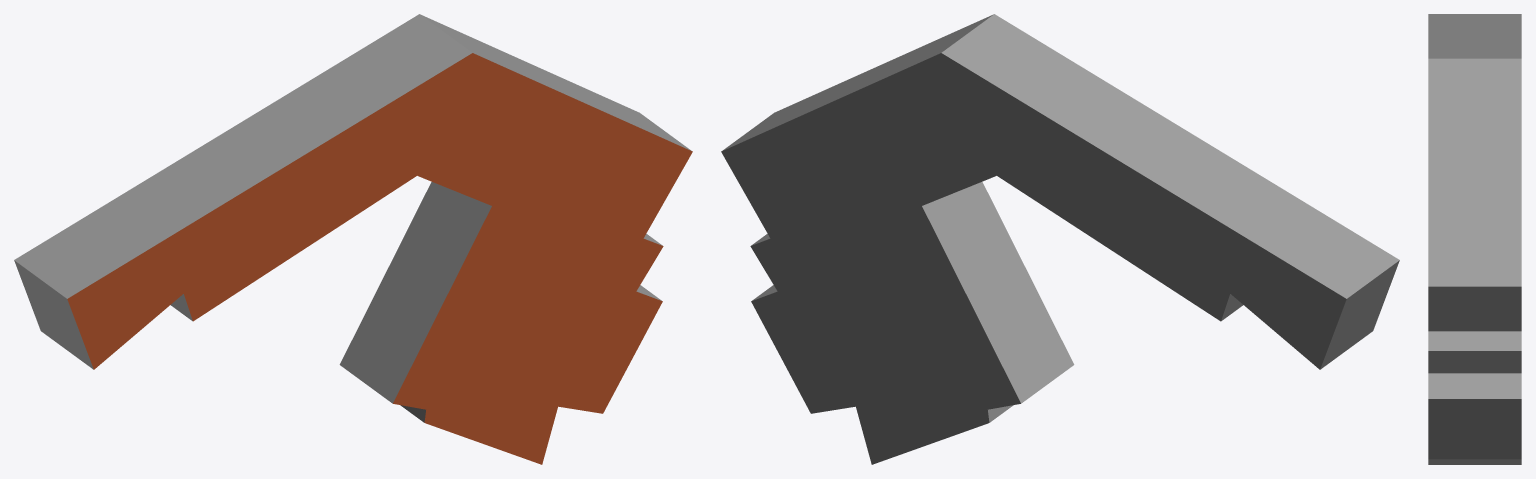
File: construction_1942_assumed_A_Casa_h6m.obj
3 renders of one model, left to right at view 1: azimuth 30°, elevation 25°; view 2: azimuth 150°, elevation 25°; view 3: azimuth 270°, elevation 25°, orthographic. The views are drawn at different scales.
Parts seen in each view (by area): view 1: construction_1942_assumed_A_Casa; view 2: construction_1942_assumed_A_Casa; view 3: construction_1942_assumed_A_Casa.
Part boxes in pixels (left/top/right/bottom): construction_1942_assumed_A_Casa: left=14, top=14, right=692, bottom=464; construction_1942_assumed_A_Casa: left=721, top=14, right=1399, bottom=464; construction_1942_assumed_A_Casa: left=1428, top=14, right=1521, bottom=464.
Size of the model in its own units: 40.76 by 26.71 by 6.
